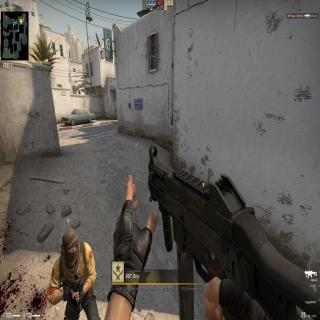T-Head: (61, 229, 80, 263)
